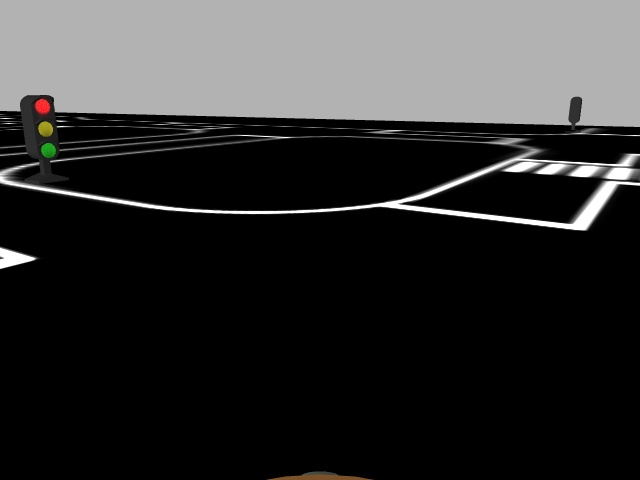red_light: (25, 95, 59, 161)
